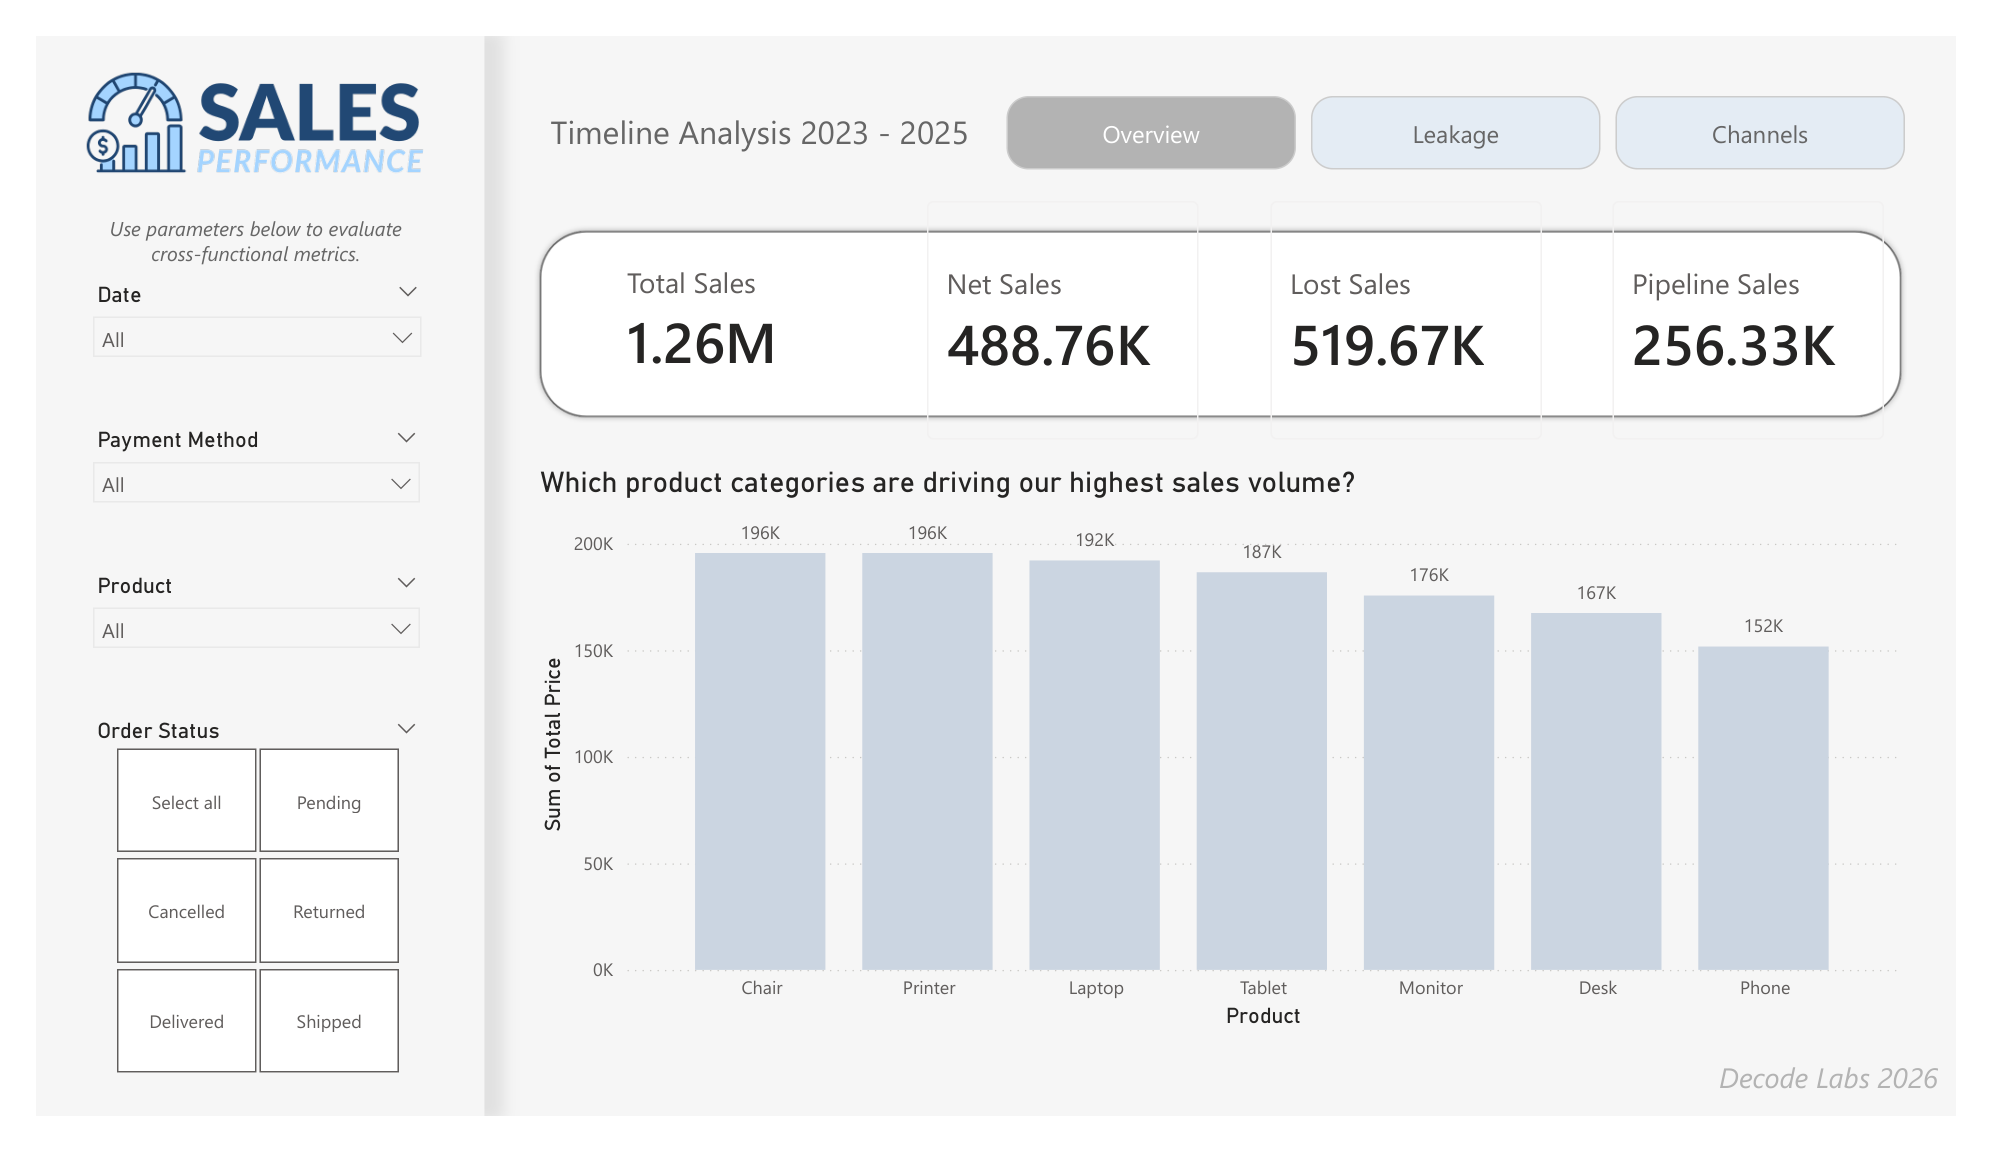

The dashboard page shown, as its layout file describes it:
{"tool":"powerbi","page":{"name":"Overview","canvas":[1280,720],"ordinal":0},"visuals":[{"type":"shape","box":[0,0,299.1,720],"z":0},{"type":"clusteredColumnChart","title":"Which product categories are driving our highest sales volume?","fields":{"Category":["Clean_Dataset_Data_Analytics.Product"],"Y":["Sum(Clean_Dataset_Data_Analytics.TotalPrice)"]},"box":[331.4,285.7,915.7,380],"z":1000},{"type":"pageNavigator","box":[647.2,39.6,600.4,49.2],"z":2000},{"type":"shape","box":[332.1,126.2,915.3,131.7],"z":3000},{"type":"cardVisual","fields":{"Data":["Sum(Clean_Dataset_Data_Analytics.TotalPrice)"]},"box":[364.8,92.7,199,193.5],"z":4000},{"type":"cardVisual","fields":{"Data":["Sum(Clean_Dataset_Data_Analytics.TotalPrice)"]},"box":[577,92.7,215.4,193.5],"z":5000},{"type":"cardVisual","fields":{"Data":["Sum(Clean_Dataset_Data_Analytics.TotalPrice)"]},"box":[805.7,92.7,215.4,193.5],"z":6000},{"type":"cardVisual","fields":{"Data":["Sum(Clean_Dataset_Data_Analytics.TotalPrice)"]},"box":[1034.4,92.7,215.4,193.5],"z":7000},{"type":"image","box":[0,0,338.2,114.1],"z":8000},{"type":"textbox","box":[1010,675.7,262.9,44.3],"z":9000},{"type":"slicer","fields":{"Values":["Clean_Dataset_Data_Analytics.OrderStatus"]},"box":[28,449.8,237.7,248.6],"z":10000},{"type":"slicer","fields":{"Values":["Clean_Dataset_Data_Analytics.PaymentMethod"]},"box":[28,256.1,237.7,76.8],"z":11000},{"type":"slicer","fields":{"Values":["Clean_Dataset_Data_Analytics.Product"]},"box":[28,352.9,237.7,76.8],"z":12000},{"type":"slicer","fields":{"Values":["Clean_Dataset_Data_Analytics.Date Hierarchy.Year_Label","Clean_Dataset_Data_Analytics.Date Hierarchy.Month_Label","Clean_Dataset_Data_Analytics.Date Hierarchy.Day_Label"]},"box":[28,159.4,238.8,76.8],"z":13000},{"type":"textbox","box":[35,114.2,223.3,62.5],"z":14000},{"type":"textbox","box":[338.2,43.5,310,40.6],"z":15000}]}

Visuals, with their boxes in screenshot pixels (x1, y1, x2, y2), scaled from the page's 1280x720 canvas onto the 1992x1152 screenshot:
shape: l=0, t=0, r=465, b=1151
"Which product categories are driving our highest sales volume?" clusteredColumnChart: l=516, t=457, r=1941, b=1065
pageNavigator: l=1007, t=63, r=1942, b=142
shape: l=517, t=202, r=1941, b=413
cardVisual - Sum(Clean_Dataset_Data_Analytics.TotalPrice): l=568, t=148, r=877, b=458
cardVisual - Sum(Clean_Dataset_Data_Analytics.TotalPrice): l=898, t=148, r=1233, b=458
cardVisual - Sum(Clean_Dataset_Data_Analytics.TotalPrice): l=1254, t=148, r=1589, b=458
cardVisual - Sum(Clean_Dataset_Data_Analytics.TotalPrice): l=1610, t=148, r=1945, b=458
image: l=0, t=0, r=526, b=183
textbox: l=1572, t=1081, r=1981, b=1151
slicer - Clean_Dataset_Data_Analytics.OrderStatus: l=44, t=720, r=413, b=1117
slicer - Clean_Dataset_Data_Analytics.PaymentMethod: l=44, t=410, r=413, b=533
slicer - Clean_Dataset_Data_Analytics.Product: l=44, t=565, r=413, b=688
slicer - Clean_Dataset_Data_Analytics.Date Hierarchy.Year_Label x Clean_Dataset_Data_Analytics.Date Hierarchy.Month_Label: l=44, t=255, r=415, b=378
textbox: l=54, t=183, r=402, b=283
textbox: l=526, t=70, r=1009, b=135
